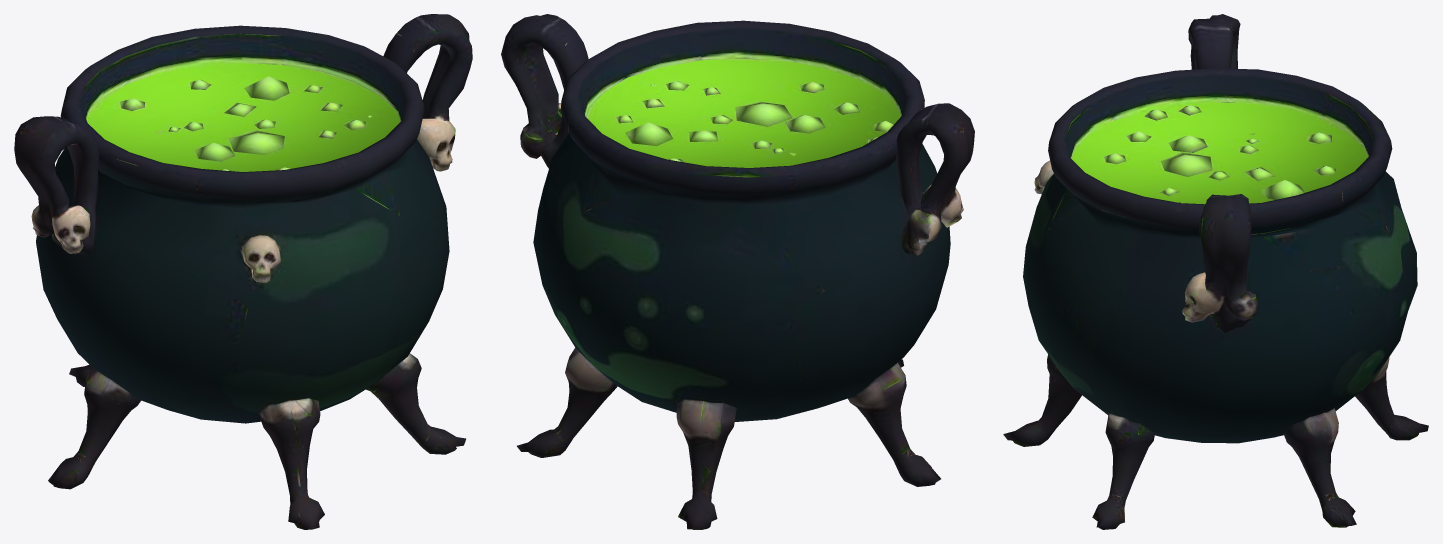
Rendered from kazan.glb.
3 views of the same model, side by side, from view 1: azimuth 30°, elevation 25°; view 2: azimuth 150°, elevation 25°; view 3: azimuth 270°, elevation 25° (orthographic). The views are drawn at different scales.
Size of the model in its own units: 0.9575 by 0.7603 by 0.8223.
1 material, 1 textured.
